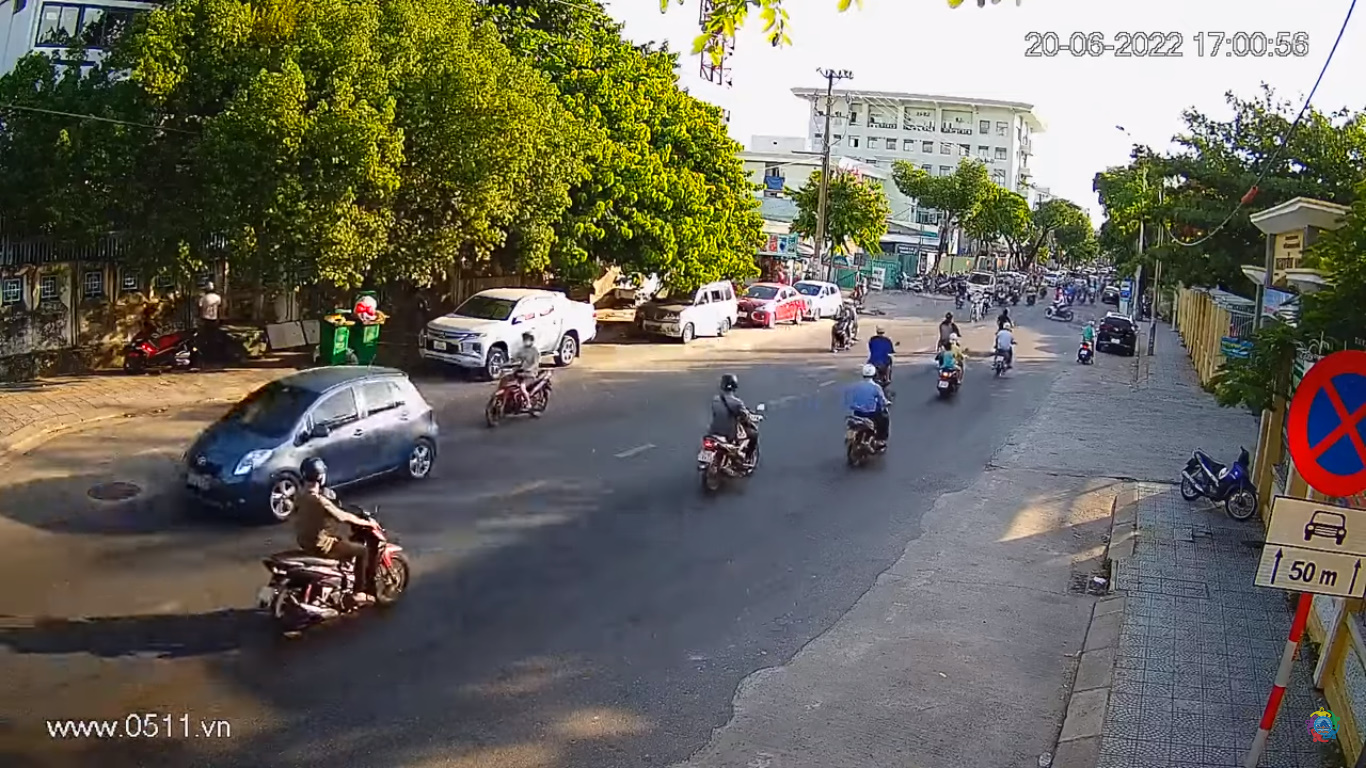car: (187, 372, 450, 515)
